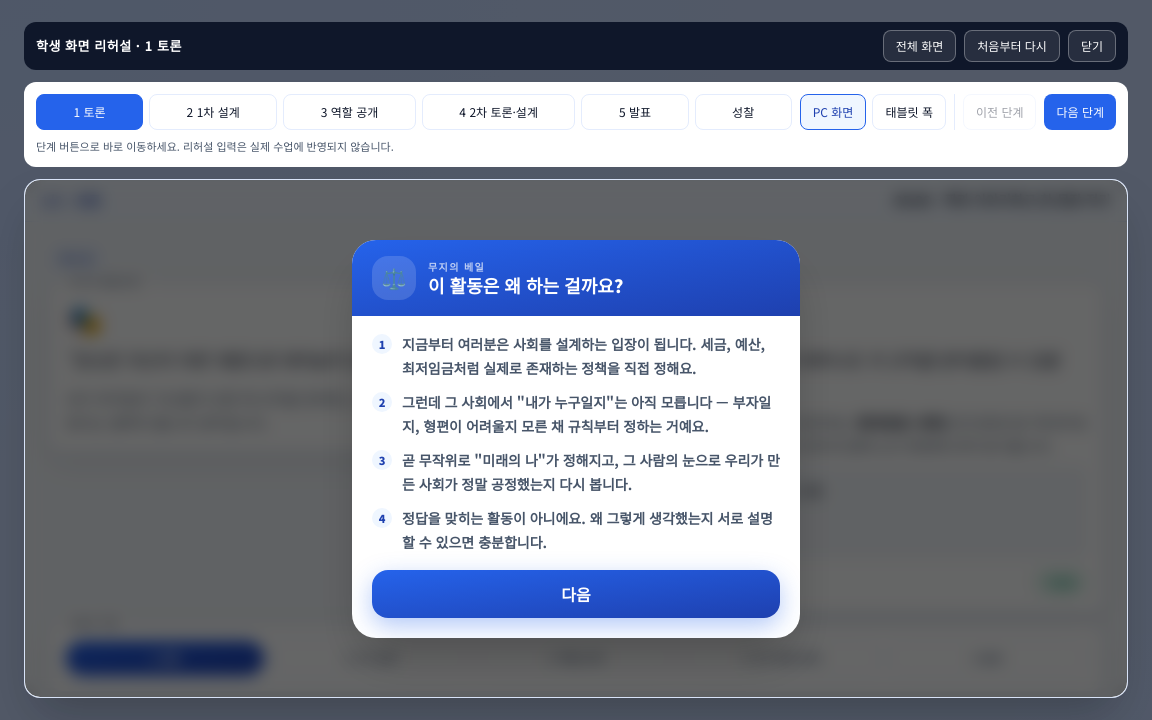
Test: 교사 독립 리허설 › 초기화할 때 이전 입력의 지연 저장이 새 리허설에 섞이지 않는다
This screenshot has width=1152, height=720.
Click the button "다음".
click(576, 594)  # box top-left (372, 570), bottom-right (780, 618)
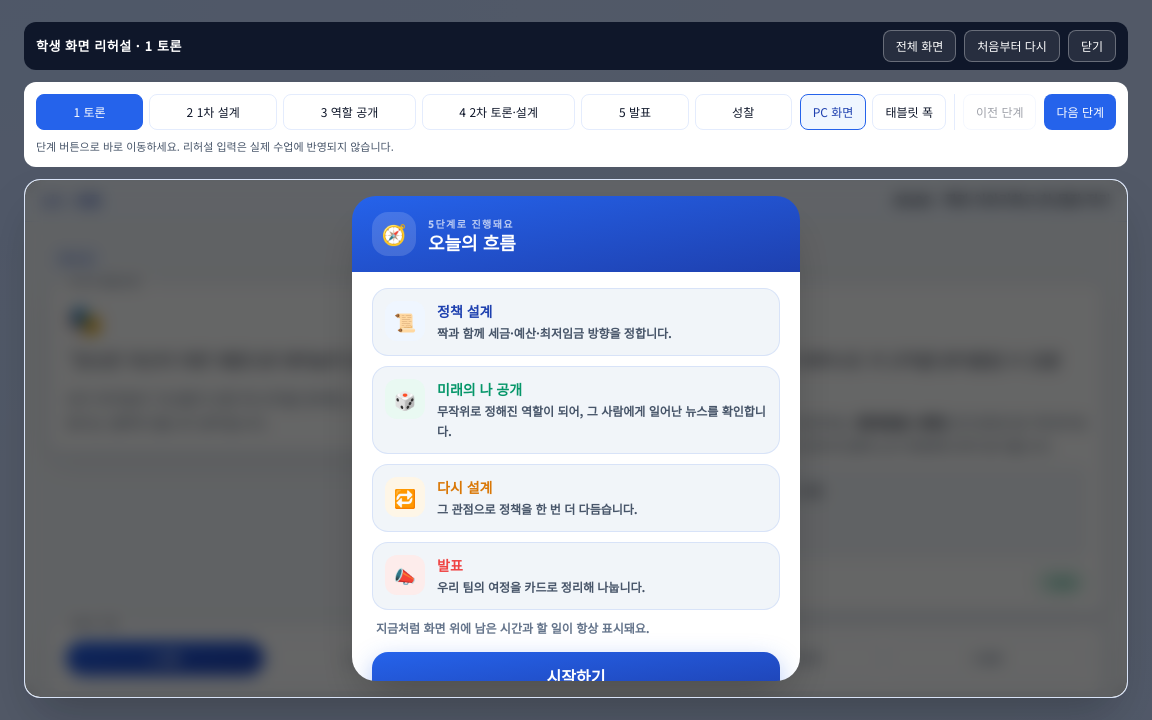
Click the button "시작하기".
click(576, 676)  # box top-left (372, 652), bottom-right (780, 700)
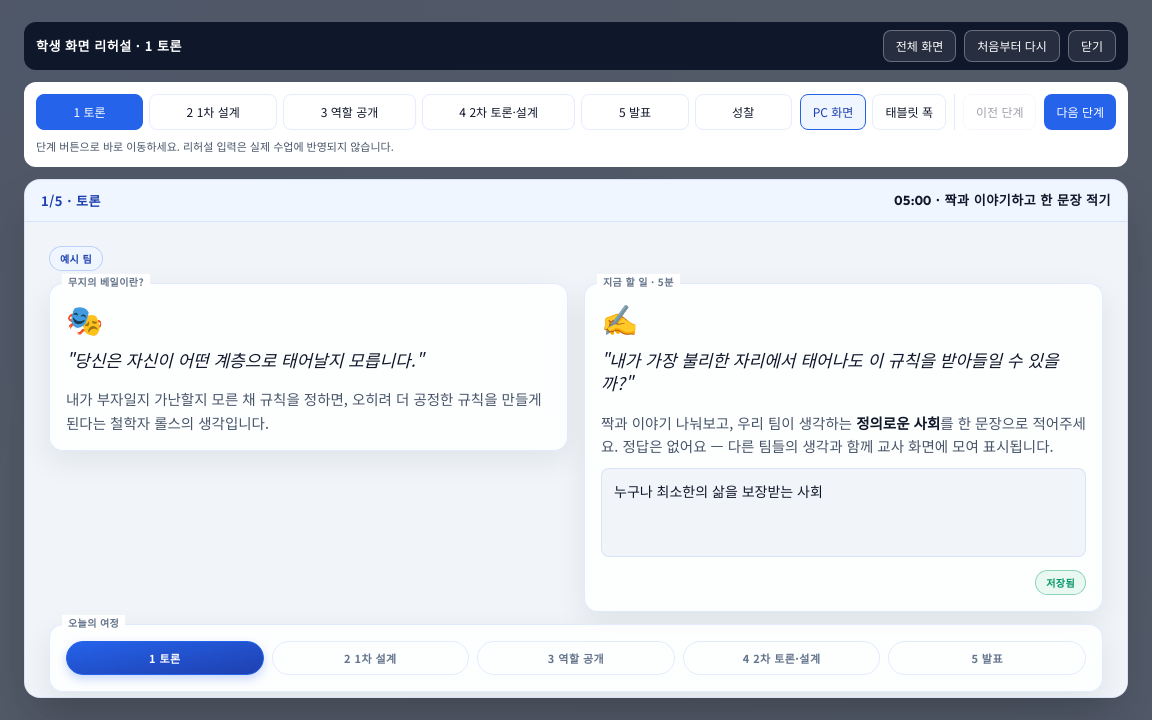
Replace the text in the text box with "초기화 전에 입력" at coordinates (844, 512), box top-left (601, 468), bottom-right (1086, 557)
Click the button "처음부터 다시".
click(1012, 46)  # box top-left (964, 30), bottom-right (1060, 62)
Wait 500 ms
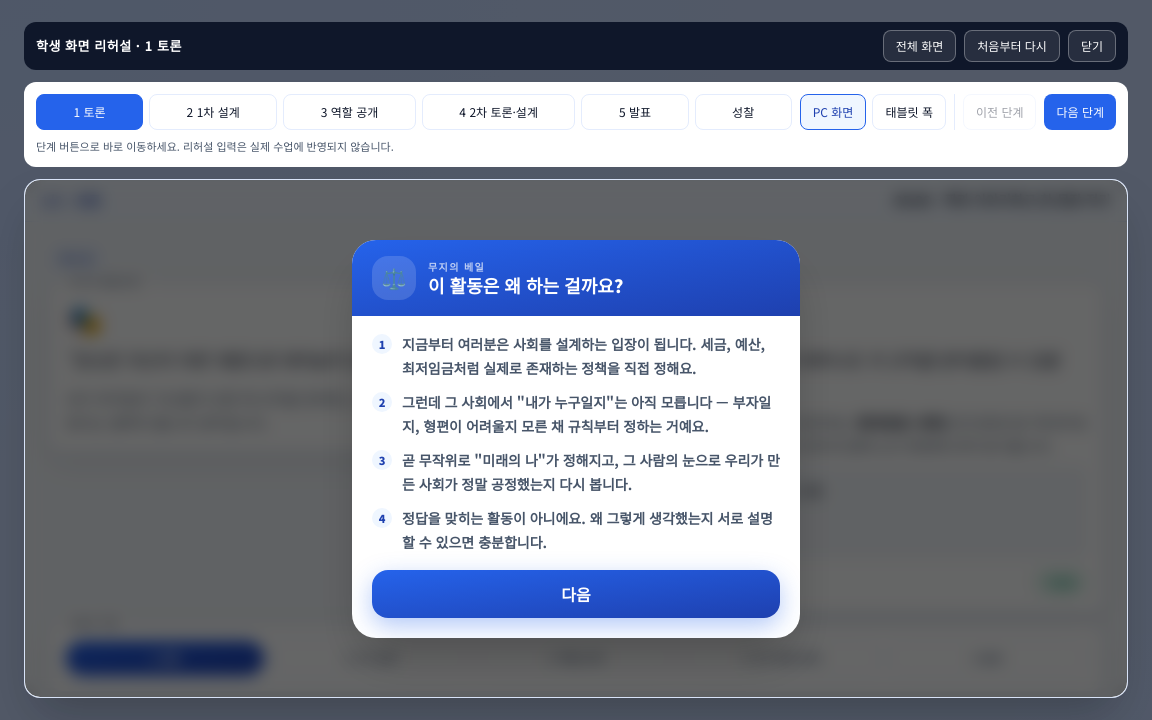
Click the button "다음".
click(576, 594)  # box top-left (372, 570), bottom-right (780, 618)
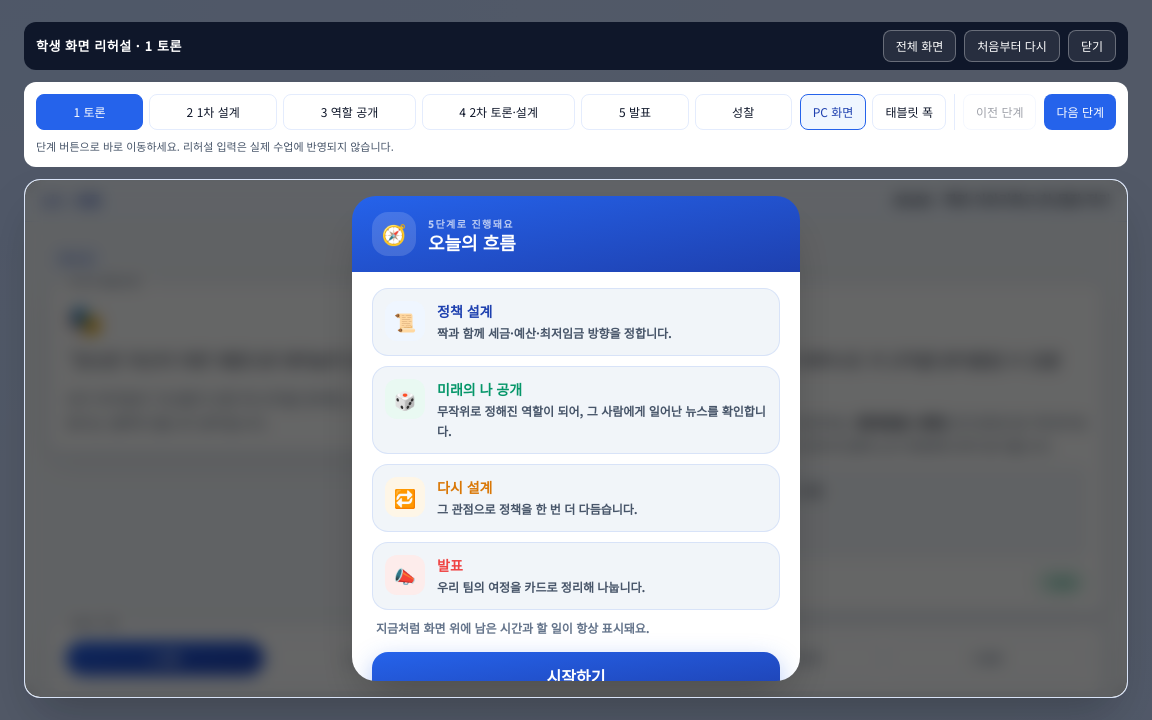
Click the button "시작하기".
click(576, 676)  # box top-left (372, 652), bottom-right (780, 700)
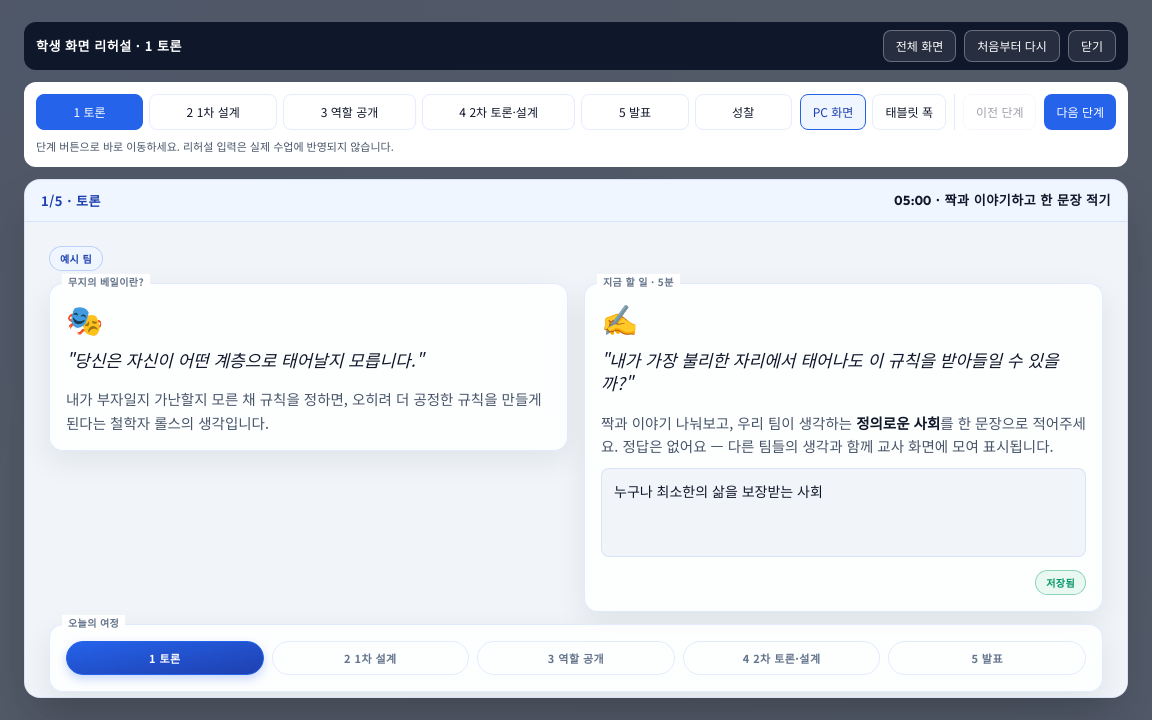
expect the text box holds "누구나 최소한의 삶을 보장받는 사회": met, box top-left (601, 468), bottom-right (1086, 557)
Click the button "3 역할 공개".
click(350, 112)  # box top-left (283, 94), bottom-right (416, 130)
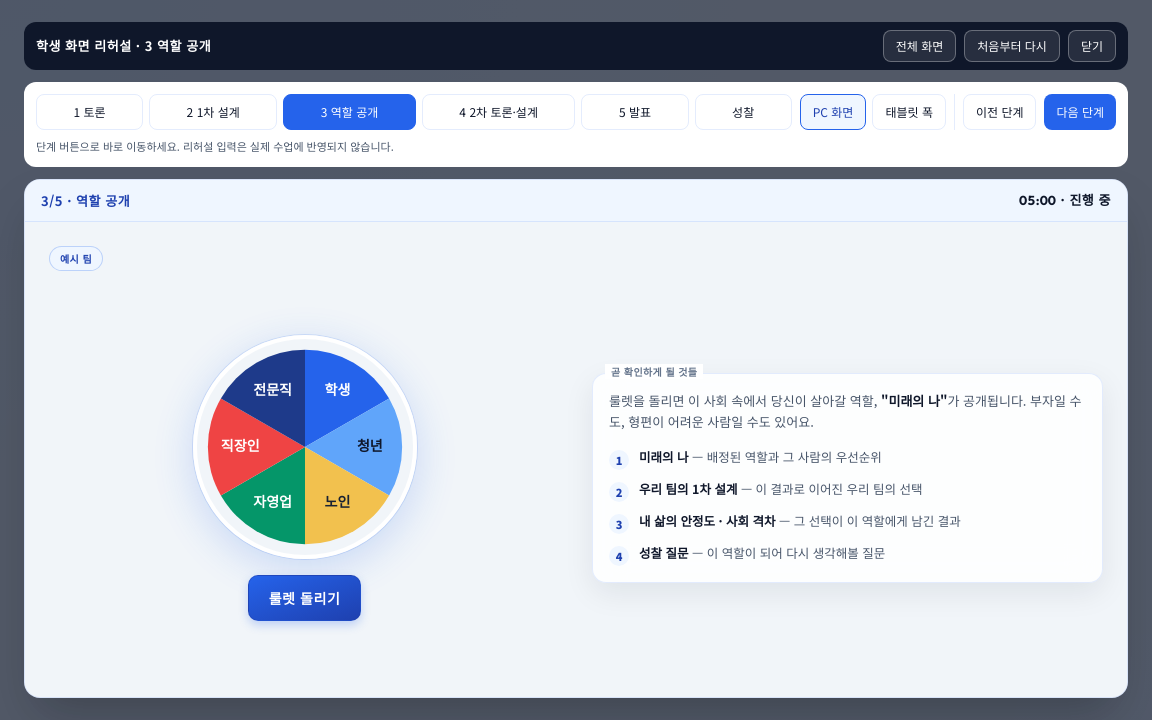
expect the button "룰렛 돌리기" is shown: met, box top-left (248, 575), bottom-right (361, 621)
